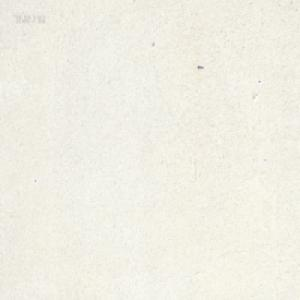Nail: (197, 65, 204, 69)
